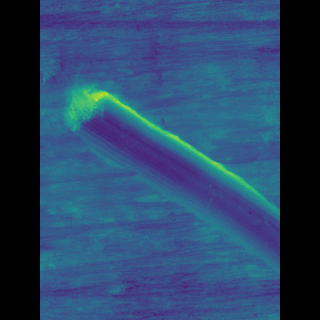Loch: (84, 74, 251, 277)
